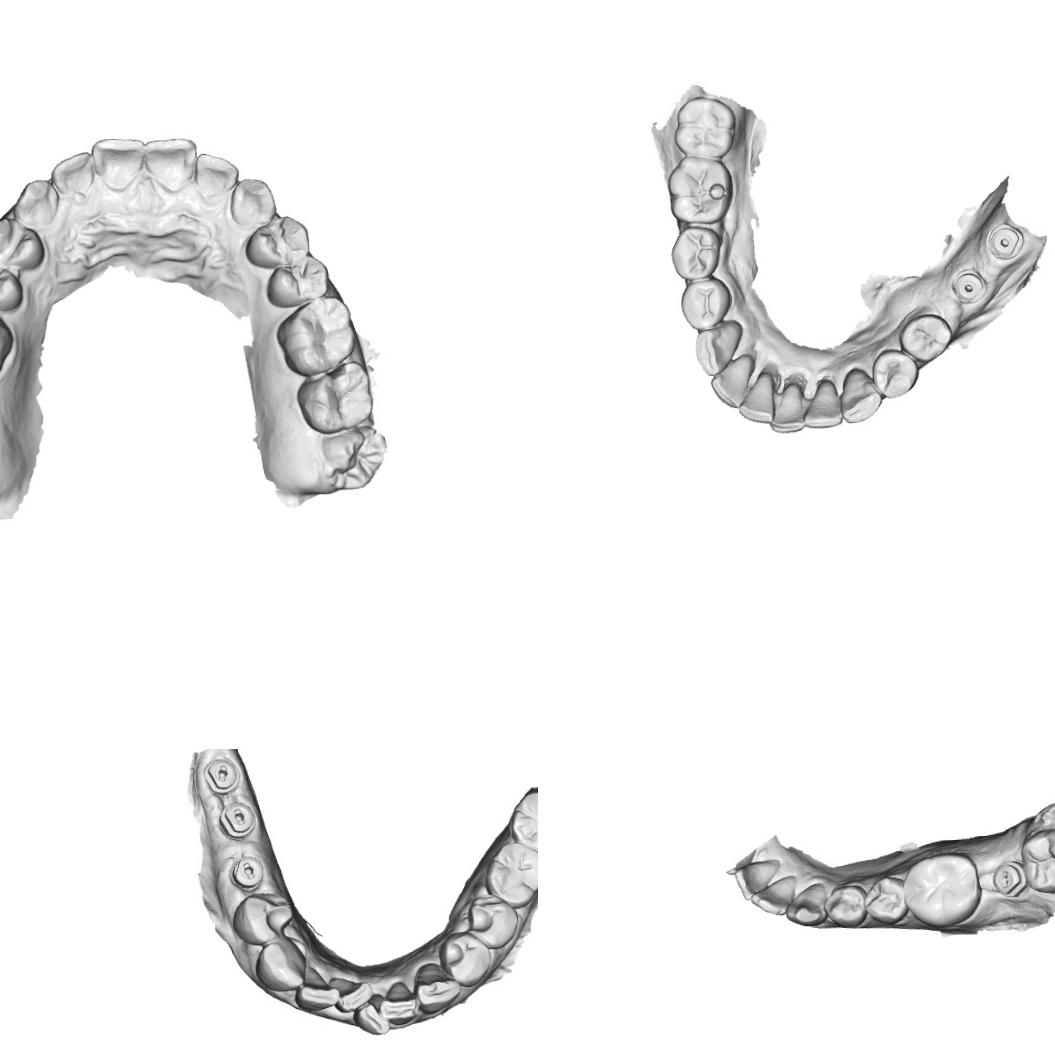canine: (252, 933, 308, 995), (693, 318, 746, 378), (410, 958, 462, 1018), (836, 364, 884, 425), (10, 178, 62, 232), (228, 175, 278, 229), (784, 882, 830, 928)
implant: (987, 222, 1025, 260), (952, 269, 987, 305)
implant_minus: (216, 799, 260, 841), (200, 756, 242, 798), (224, 854, 266, 894), (991, 859, 1028, 899)
incisor: (142, 134, 198, 194), (90, 134, 146, 191), (708, 351, 758, 411), (192, 148, 239, 204), (291, 966, 342, 1016), (735, 370, 776, 428), (801, 376, 844, 430), (748, 873, 799, 918), (48, 150, 94, 198), (732, 858, 782, 902), (767, 381, 806, 436), (379, 978, 420, 1028), (329, 972, 374, 1014), (352, 991, 391, 1039)
molar: (272, 294, 358, 378), (900, 851, 984, 930), (294, 359, 376, 436), (664, 153, 736, 226), (318, 421, 390, 492), (671, 94, 740, 162), (482, 839, 538, 911), (1018, 825, 1055, 894), (506, 788, 538, 859)
premolar: (242, 213, 312, 270), (264, 252, 331, 310), (230, 891, 297, 947), (436, 930, 494, 990), (464, 892, 522, 951), (669, 224, 724, 282), (896, 311, 955, 365), (677, 276, 733, 332), (868, 346, 921, 400), (0, 215, 47, 274), (861, 874, 909, 926), (822, 883, 868, 929), (0, 255, 23, 314)
